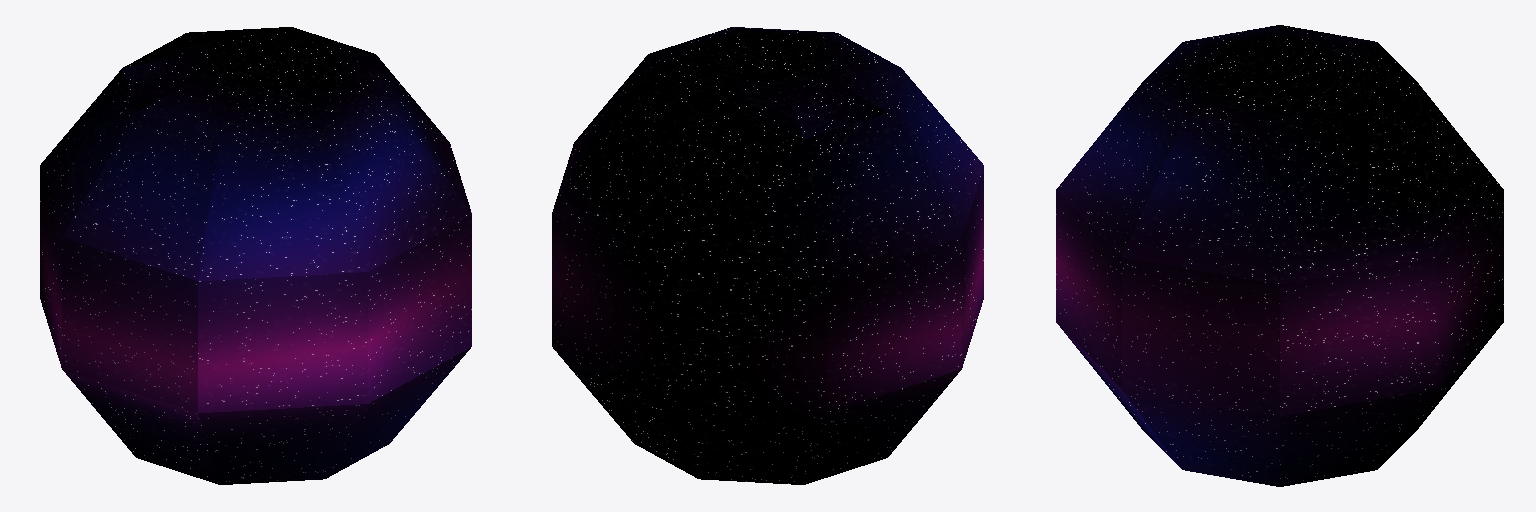
3 renders of one model, left to right at view 1: azimuth 30°, elevation 25°; view 2: azimuth 150°, elevation 25°; view 3: azimuth 270°, elevation 25°, orthographic.
Parts seen in each view (by area): view 1: Skybox_Sphere; view 2: Skybox_Sphere; view 3: Skybox_Sphere.
Part boxes in pixels (bbox=[...]): Skybox_Sphere: bbox=[40, 27, 471, 484]; Skybox_Sphere: bbox=[552, 27, 983, 484]; Skybox_Sphere: bbox=[1056, 25, 1503, 486].
Bounding box in the file's own units: 380 × 400 × 380.
1 materials, 1 textured.